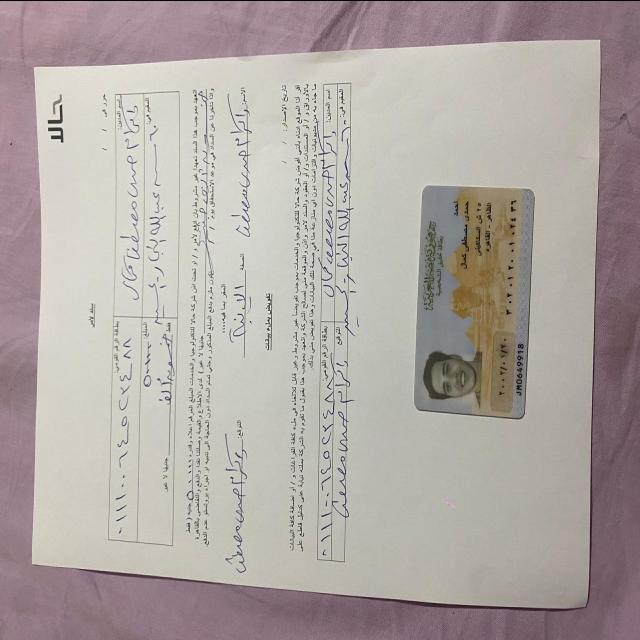ID-cards: (408, 173, 543, 429)
